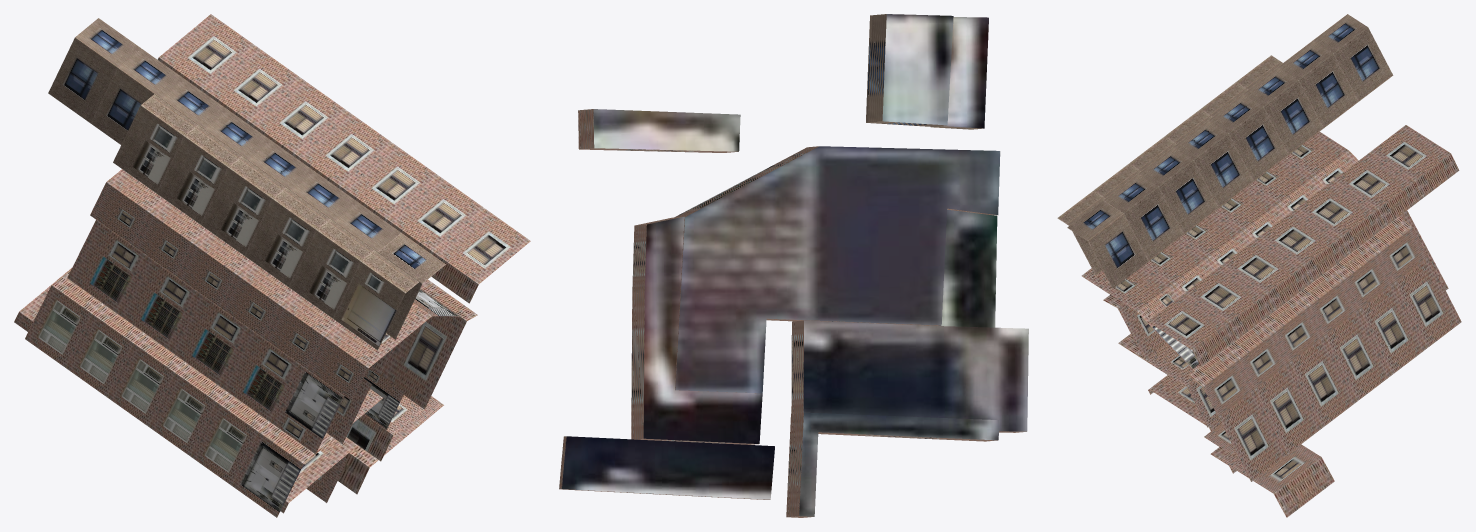
3 views of the same model, side by side, from view 1: azimuth 30°, elevation 25°; view 2: azimuth 150°, elevation 25°; view 3: azimuth 270°, elevation 25° (orthographic). The views are drawn at different scales.
Bounding box in the file's own units: 28.35 × 30 × 28.6.
34 materials, 34 textured.
